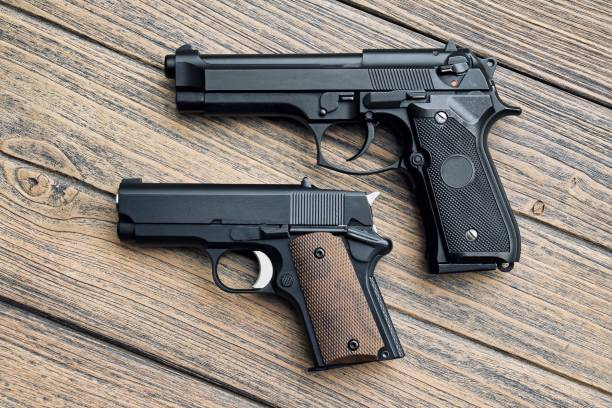gun: (163, 41, 523, 279), (112, 174, 405, 373)
